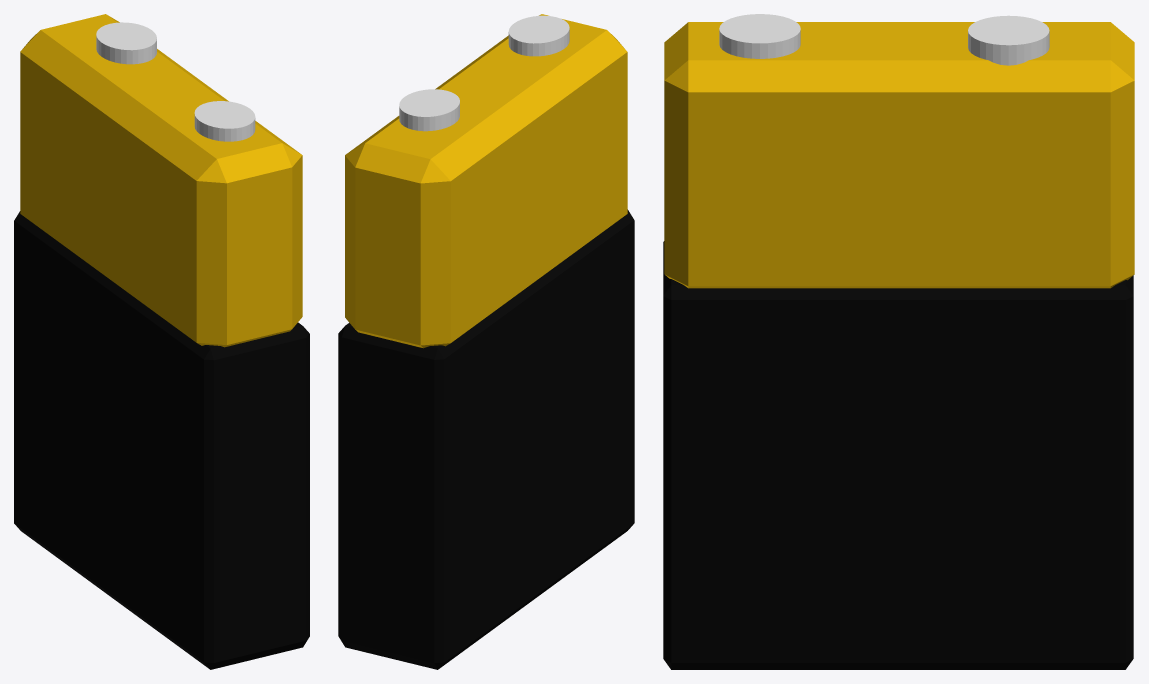
Rendered from battery.fbx.
The picture shows the model from 3 angles, left to right: view 1: azimuth 30°, elevation 25°; view 2: azimuth 150°, elevation 25°; view 3: azimuth 270°, elevation 25°; orthographic projection. The views are drawn at different scales.
Parts seen in each view (by area): view 1: Cube, Cube.001, Cylinder, Cylinder.001; view 2: Cube, Cube.001, Cylinder, Cylinder.001; view 3: Cube, Cube.001, Cylinder, Cylinder.001.
Part boxes in pixels (<box>): Cube: <box>14,211,309,669</box>; Cube.001: <box>20,14,302,347</box>; Cylinder: <box>96,22,156,64</box>; Cylinder.001: <box>194,101,255,141</box>; Cube: <box>338,209,634,669</box>; Cube.001: <box>345,14,627,348</box>; Cylinder: <box>399,89,459,131</box>; Cylinder.001: <box>508,15,569,56</box>; Cube: <box>663,241,1133,669</box>; Cube.001: <box>664,22,1134,288</box>; Cylinder: <box>968,15,1049,65</box>; Cylinder.001: <box>719,14,800,58</box>.
Bounding box in the file's own units: 30.06 × 140 × 96.54.
